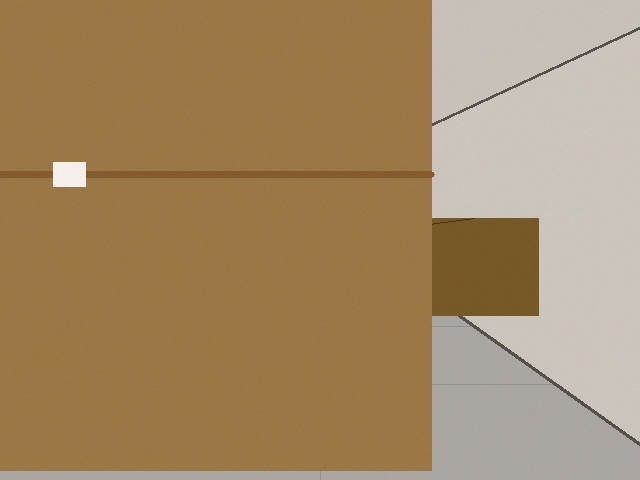box: (0, 0, 431, 470)
charging_station: (126, 152, 207, 287)
directional_sign: (311, 128, 422, 184)
pallet: (280, 218, 538, 315)
